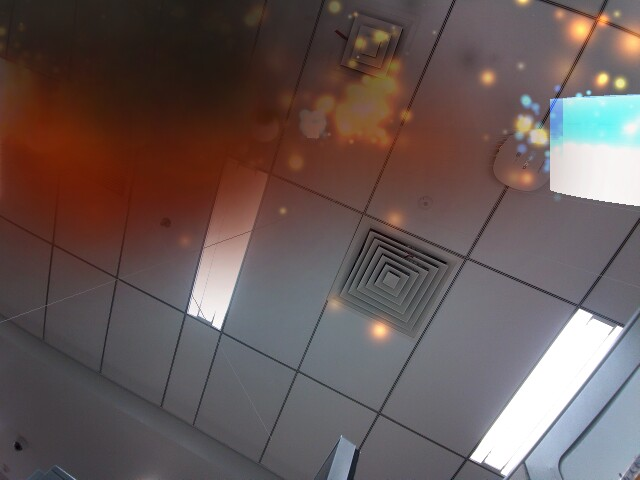fire: (344, 84, 391, 122)
